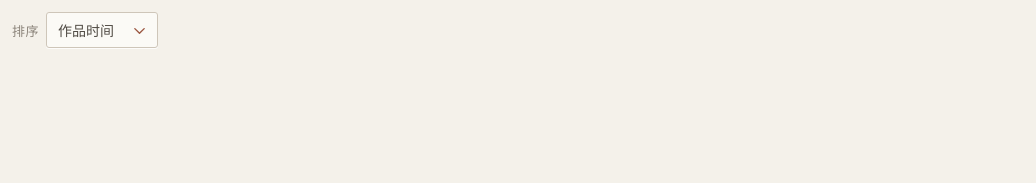
ThemedSelect › opens, selects an option, and closes with the new value
Click the dropdown named "排序" at x=102, y=30, box [46,12,158,48]
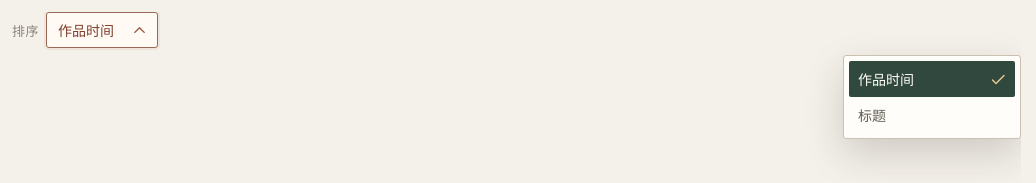
Now the element with class "themed-select" has class "is-open", box [12,12,158,48]
Click the option "标题" at x=932, y=115, box [849,97,1015,133]
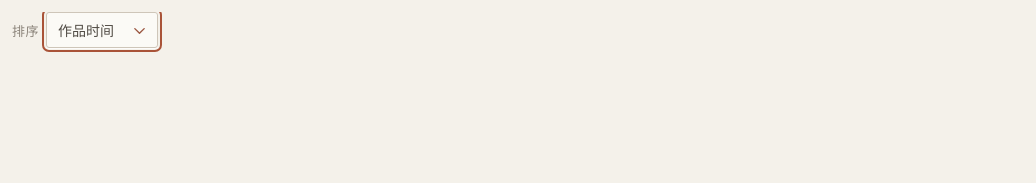
Now the element with class "themed-select" does not have class "is-open", box [12,12,158,48]
